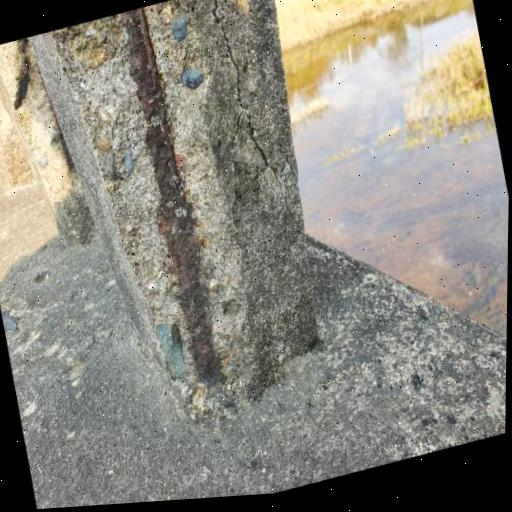exposed_rebar: (122, 7, 224, 384)
